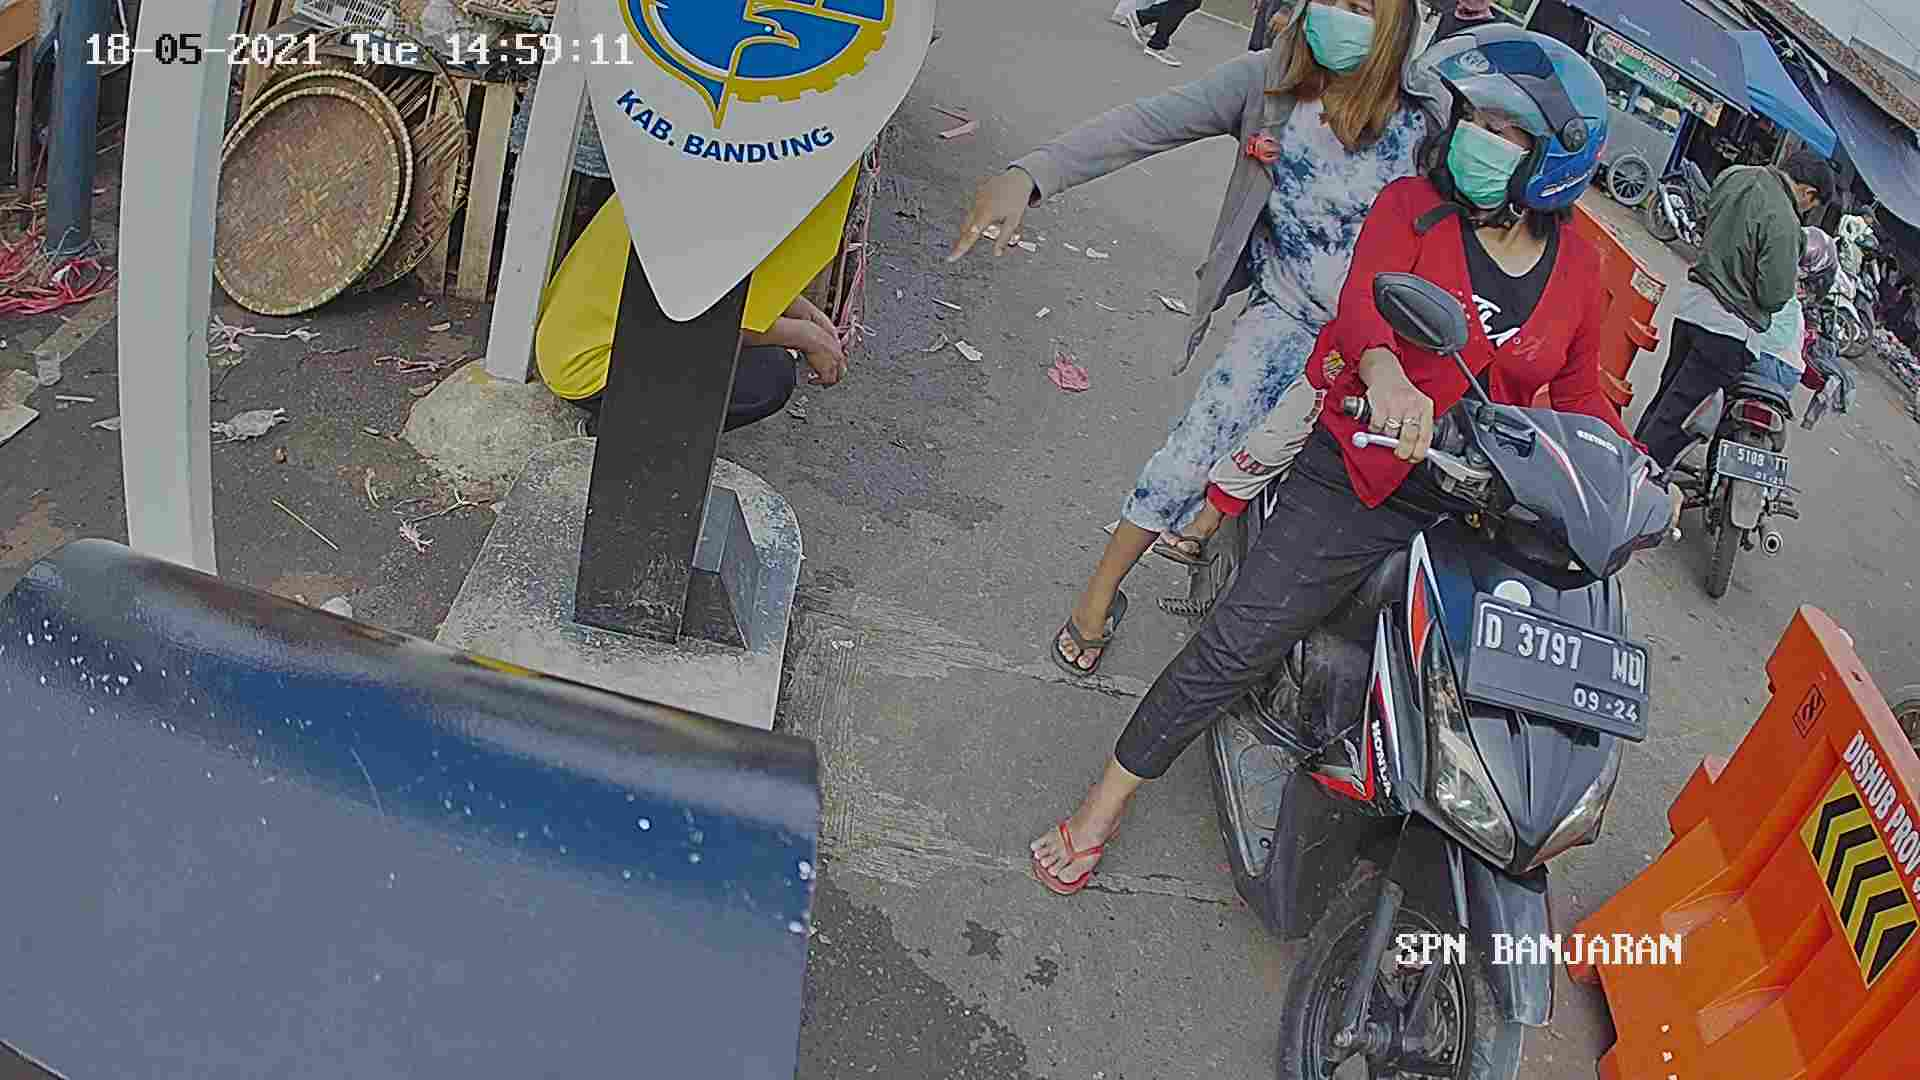motor: (1185, 309, 1708, 1080), (1687, 322, 1824, 599)
